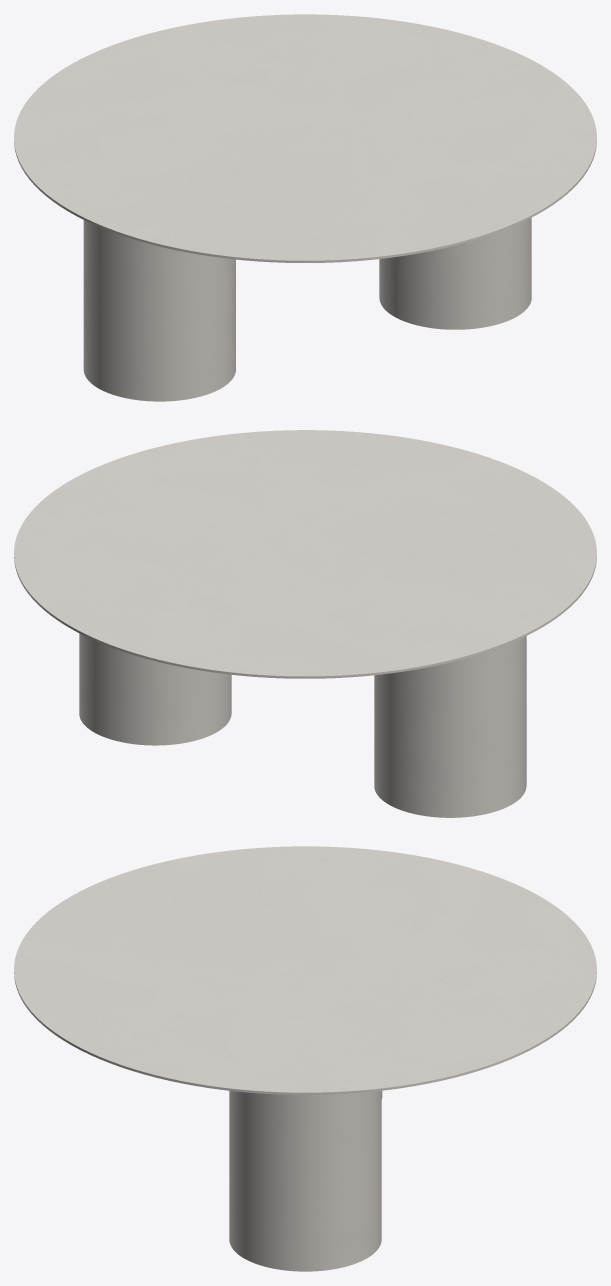
Rendered from pearlwhite_round_facet_stream.glb.
The picture shows the model from 3 angles, top to bottom: view 1: azimuth 30°, elevation 25°; view 2: azimuth 150°, elevation 25°; view 3: azimuth 270°, elevation 25°; orthographic projection.
Visible parts, largest first — view 1: facet_round, stream; view 2: facet_round, stream; view 3: facet_round, stream.
Boxes of the visible parts, x1=… form: facet_round: x1=14, y1=14, x2=596, y2=262; stream: x1=83, y1=218, x2=531, y2=401; facet_round: x1=14, y1=430, x2=596, y2=678; stream: x1=79, y1=633, x2=526, y2=817; facet_round: x1=14, y1=846, x2=596, y2=1094; stream: x1=229, y1=1090, x2=382, y2=1271.
Size of the model in its own units: 6.75 by 2.51 by 6.75.
Materials: 1 (1 with a texture image).
